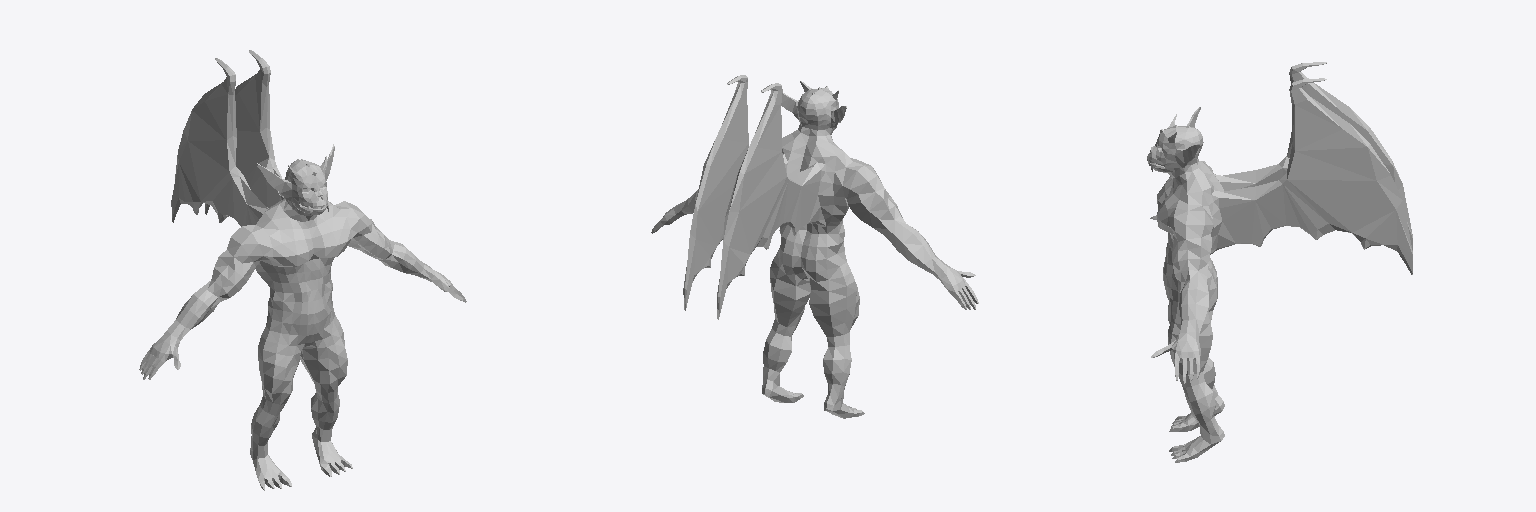
The model's file is monster.obj.
The picture shows the model from 3 angles: view 1: azimuth 30°, elevation 25°; view 2: azimuth 150°, elevation 25°; view 3: azimuth 270°, elevation 25°; orthographic projection.
Visible parts, largest first — view 1: Gargoyle_1; view 2: Gargoyle_1; view 3: Gargoyle_1.
Part boxes in pixels (left/top/right/bottom): Gargoyle_1: left=139, top=50, right=466, bottom=490; Gargoyle_1: left=651, top=75, right=978, bottom=418; Gargoyle_1: left=1147, top=62, right=1412, bottom=462.
Size of the model in its own units: 67.47 by 74.66 by 48.5.